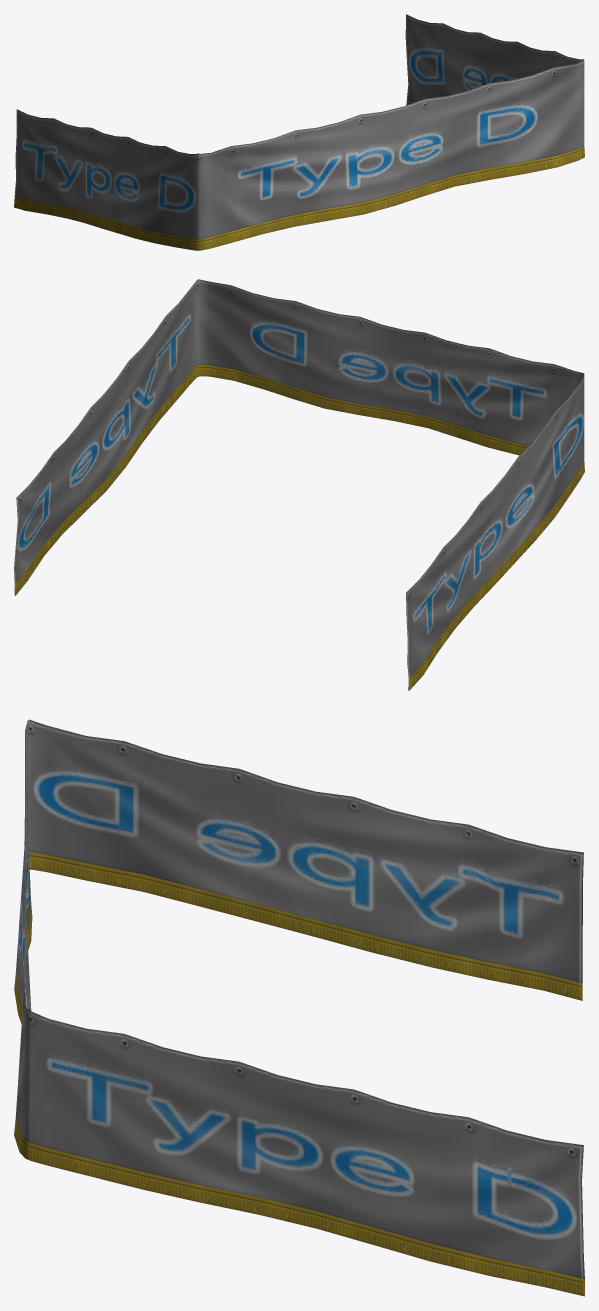
File: jsf_ShopCurtain_d_s02.fbx
3 views of the same model, one above another, from view 1: azimuth 30°, elevation 25°; view 2: azimuth 150°, elevation 25°; view 3: azimuth 270°, elevation 25° (orthographic). The views are drawn at different scales.
Visible parts, largest first — view 1: jsf_ShopCurtain_d_s02; view 2: jsf_ShopCurtain_d_s02; view 3: jsf_ShopCurtain_d_s02.
Boxes of the visible parts, <box> form: jsf_ShopCurtain_d_s02: <box>14,14,584,250</box>; jsf_ShopCurtain_d_s02: <box>14,279,584,690</box>; jsf_ShopCurtain_d_s02: <box>14,719,584,1296</box>.
Bounding box in the file's own units: 269 × 119 × 216.
